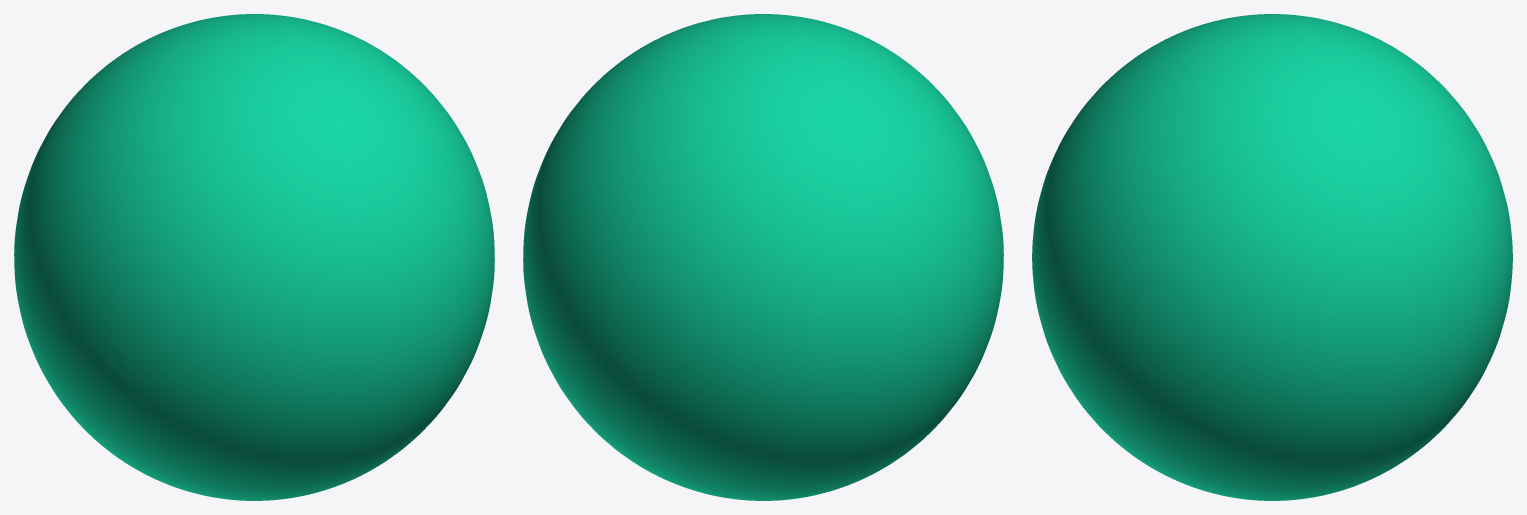
The model's file is sphere_medium.fbx.
3 views of the same model, side by side, from view 1: azimuth 30°, elevation 25°; view 2: azimuth 150°, elevation 25°; view 3: azimuth 270°, elevation 25° (orthographic).
Visible parts, largest first — view 1: pSphere3; view 2: pSphere3; view 3: pSphere3.
Boxes of the visible parts, x1,y1,x2,y2 form: pSphere3: (14,14,494,500); pSphere3: (523,14,1003,500); pSphere3: (1032,14,1512,500).
Size of the model in its own units: 783 by 797 by 783.
